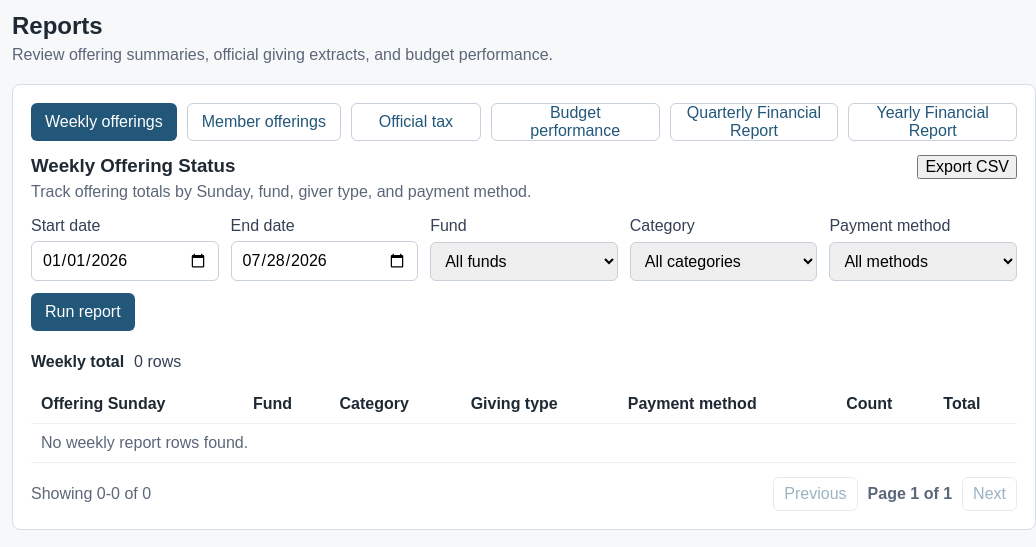
Scenario: ReportsView › disables premature closing and explains the fiscal-end rule
This screenshot has width=1036, height=547.
Click the tab "Yearly Financial Report". click: {"x": 933, "y": 122}
box: [848, 103, 1017, 141]
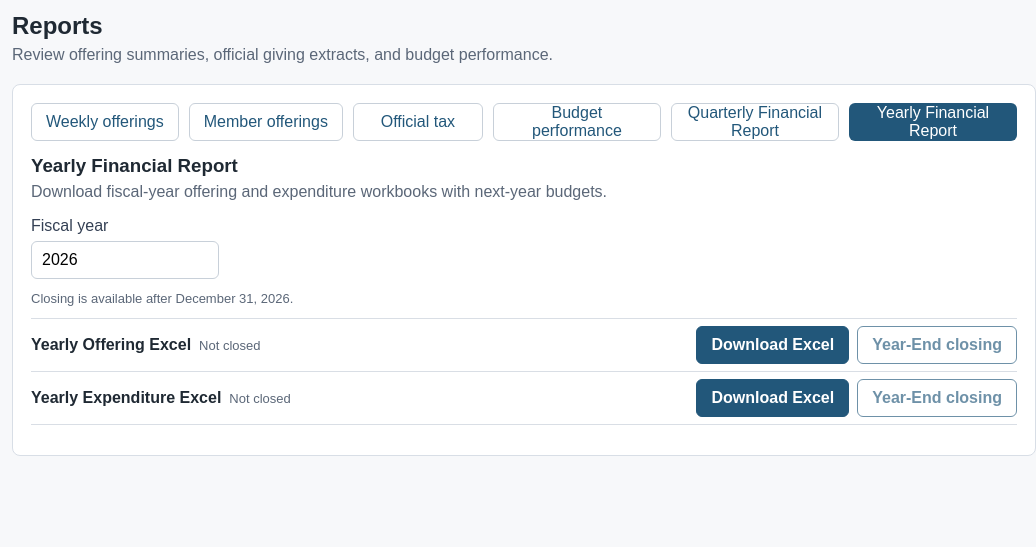
Expected: the button with aria-label "year-end close offering" is disabled, [857, 326, 1017, 364]
Expected: the text "Closing is available after December 31, 2026." is shown, [31, 291, 293, 306]
